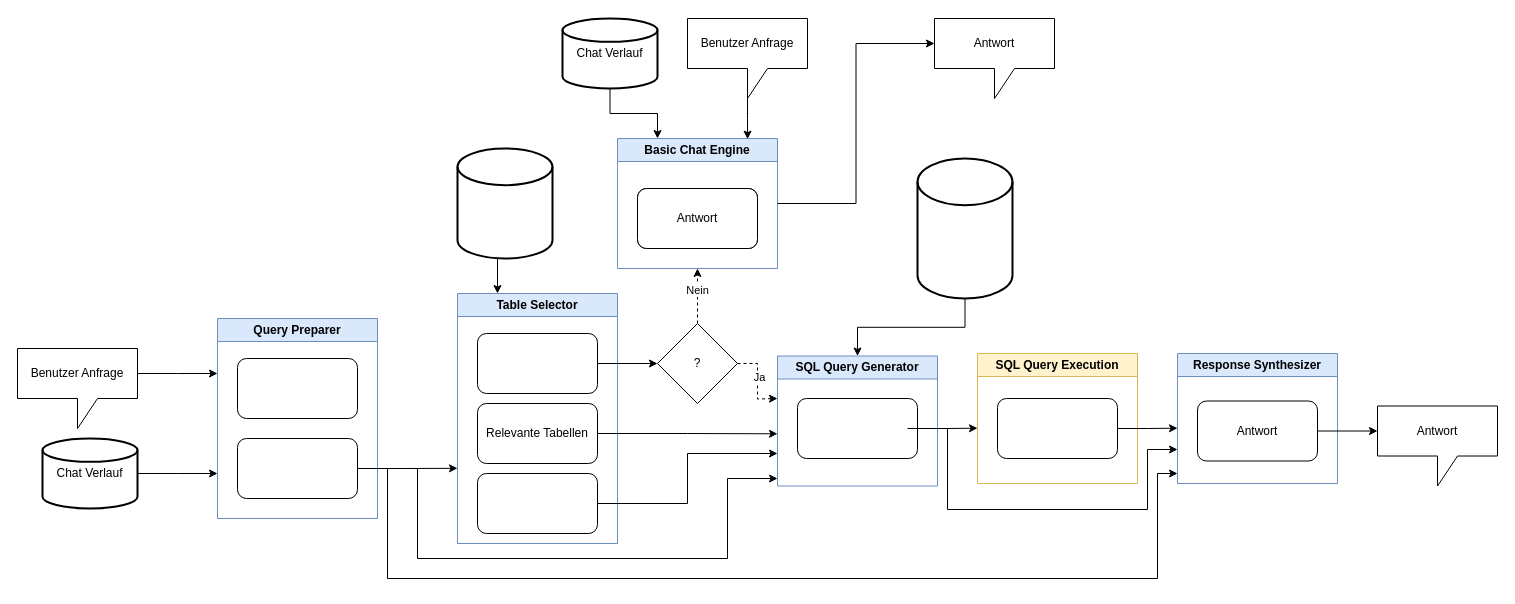
Some shapes in this 1515 by 604 pixel diagram are drawn without their labels. The centre of each missing label's shape, as x and y in pixels:
Grund für die Auswahl: the point at 537,503
Ist eine SQL Abfrage notwendig? (True/False): the point at 537,363
Sprache der Frage: the point at 297,388
SQL Erbenisse (1-4): the point at 1057,428
SQL Querys (1-4): the point at 857,428
Tabellen-Informationen: the point at 504,203
Verbesserte Frage: the point at 297,468
Zusätzliche Tabellen-Metadaten: the point at 964,228
